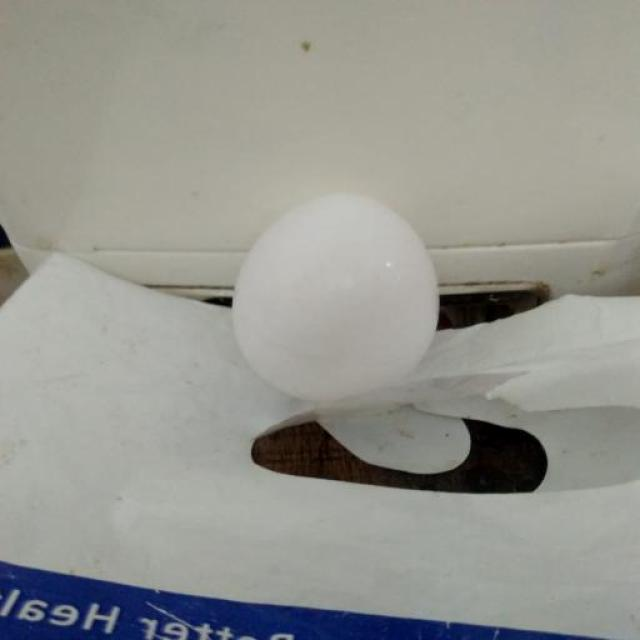telur: (226, 188, 442, 410)
